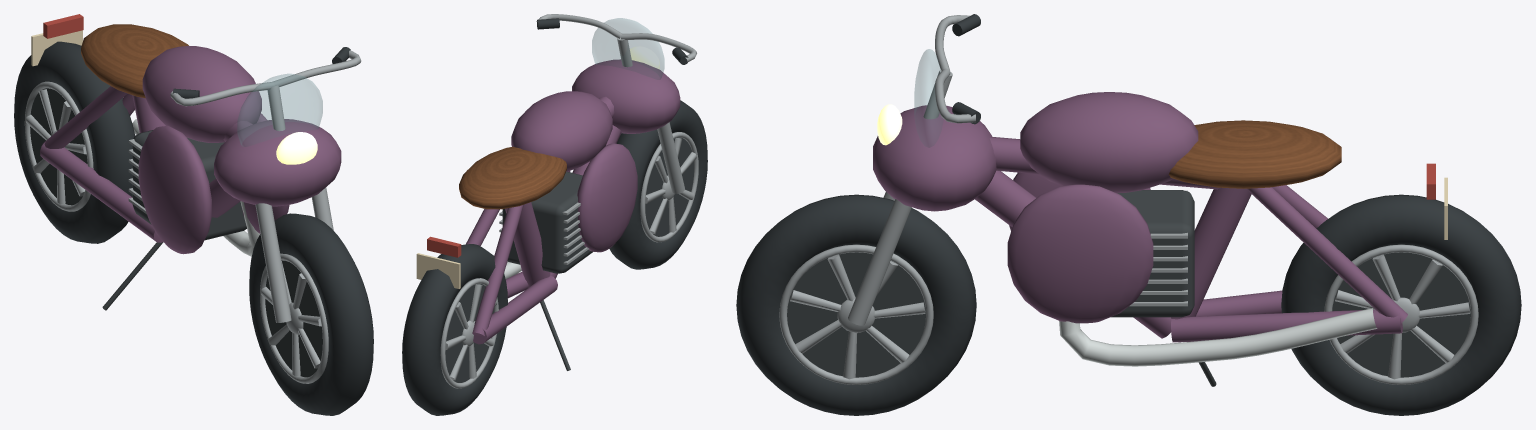
File: veh_moto_apex1000-c79e2c1113d8.glb
3 views of the same model, side by side, from view 1: azimuth 30°, elevation 25°; view 2: azimuth 150°, elevation 25°; view 3: azimuth 270°, elevation 25° (orthographic). The views are drawn at different scales.
Visible parts, largest first — view 1: surface_#805d7b, surface_rubber (×3), surface_steel (×4), surface_graphite (×3), surface_Optical_smoke, surface_walnut, surface_lit, surface_chrome, surface_ivory, surface_red; view 2: surface_#805d7b, surface_rubber (×3), surface_steel (×4), surface_graphite (×3), surface_walnut, surface_Optical_smoke, surface_ivory, surface_red, surface_lit; view 3: surface_#805d7b, surface_rubber (×2), surface_graphite (×3), surface_steel (×4), surface_walnut, surface_chrome, surface_Optical_smoke, surface_lit.
Boxes of the visible parts, <box> form: surface_#805d7b: <box>40,46,341,254</box>; surface_rubber (×3): <box>14,41,373,415</box>; surface_steel (×4): <box>24,50,361,383</box>; surface_graphite (×3): <box>30,84,325,377</box>; surface_Optical_smoke: <box>237,74,322,146</box>; surface_walnut: <box>81,24,188,98</box>; surface_lit: <box>276,132,317,164</box>; surface_chrome: <box>132,118,259,256</box>; surface_ivory: <box>31,30,82,66</box>; surface_red: <box>43,14,83,38</box>; surface_#805d7b: <box>466,59,680,344</box>; surface_rubber (×3): <box>402,18,707,415</box>; surface_steel (×4): <box>440,14,698,388</box>; surface_graphite (×3): <box>443,137,694,382</box>; surface_walnut: <box>459,146,566,209</box>; surface_Optical_smoke: <box>592,18,664,79</box>; surface_ivory: <box>416,253,460,288</box>; surface_red: <box>427,236,461,257</box>; surface_lit: <box>630,46,659,68</box>; surface_#805d7b: <box>873,92,1407,342</box>; surface_rubber (×2): <box>736,194,1521,415</box>; surface_graphite (×3): <box>787,190,1470,386</box>; surface_steel (×4): <box>779,15,1478,384</box>; surface_walnut: <box>1168,120,1341,188</box>; surface_chrome: <box>1059,308,1377,366</box>; surface_Optical_smoke: <box>914,49,942,147</box>; surface_lit: <box>877,104,902,145</box>.
Bounding box in the file's own units: 0.6567 × 1.07 × 2.1.
10 materials, 1 textured.
